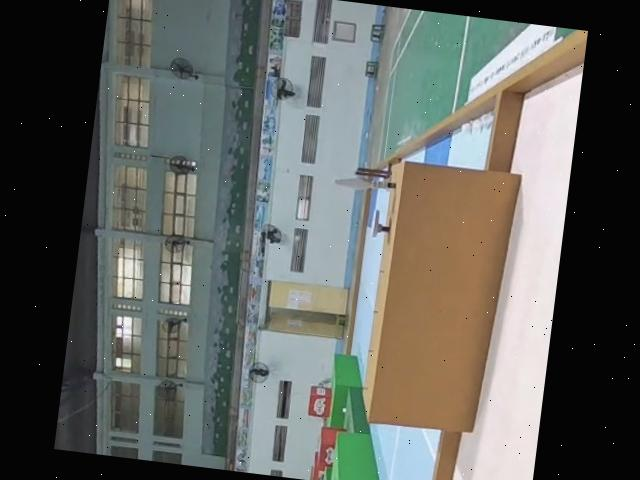Hand: (368, 210, 391, 241)
Sph: (329, 172, 397, 196)
